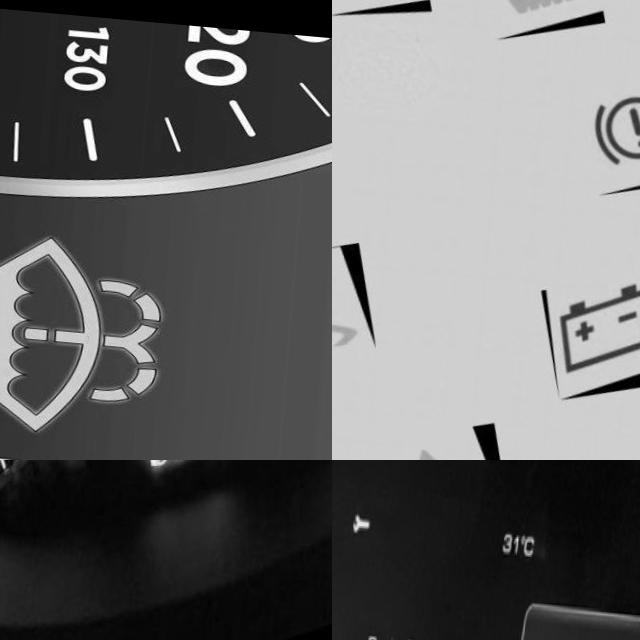Washer Fluid: (0, 221, 171, 438)
